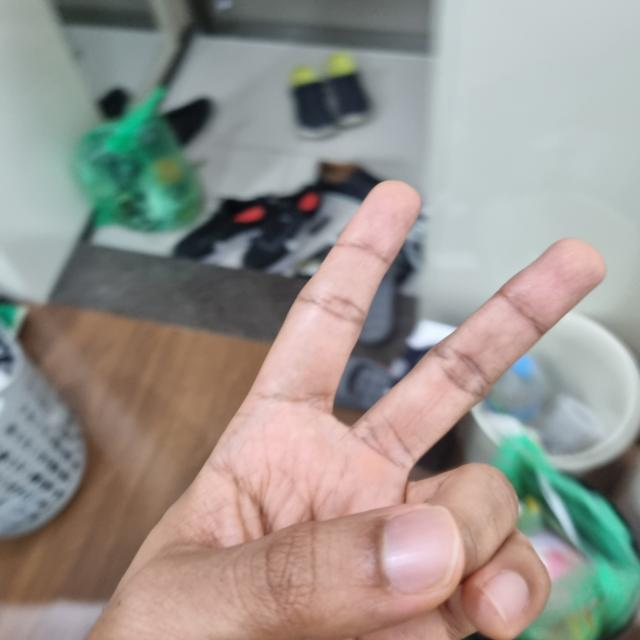Scissors: (62, 181, 623, 639)
